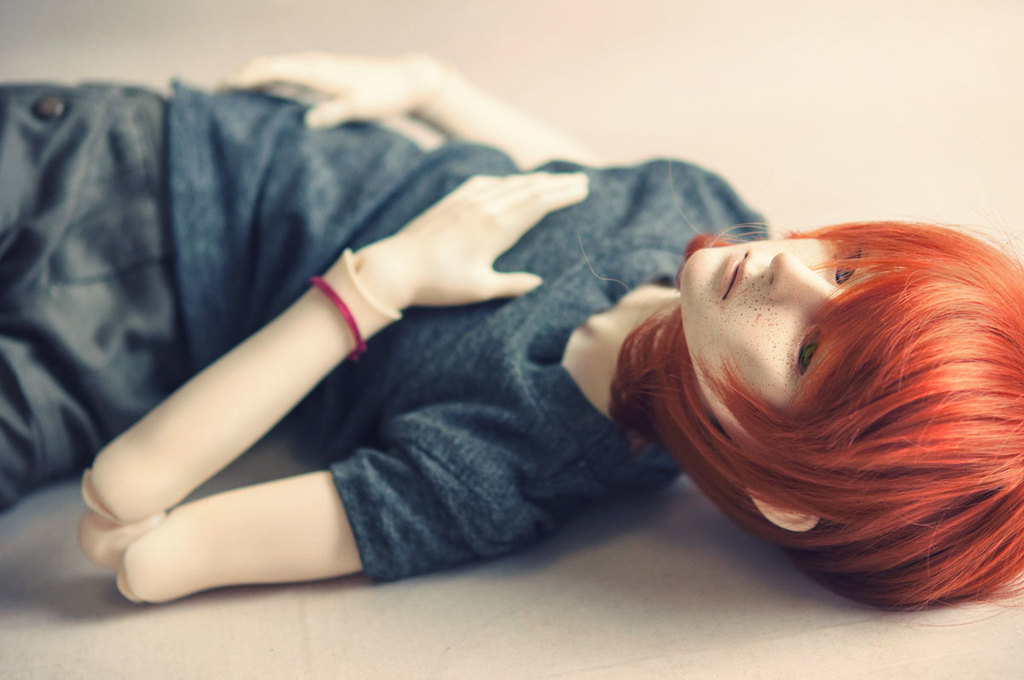Human_hand: (332, 173, 542, 330), (215, 51, 436, 128)
